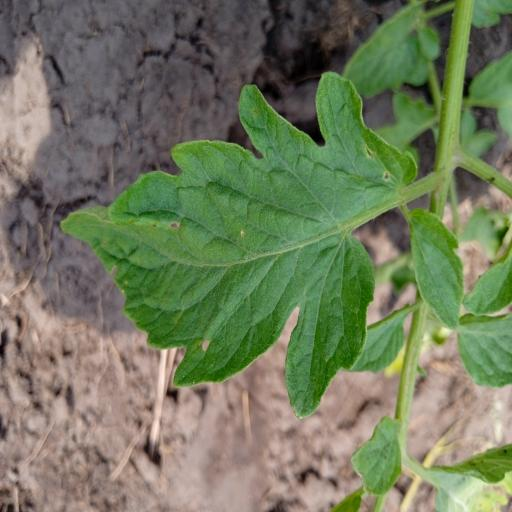Tomato_Mildiou: (61, 71, 426, 409)
